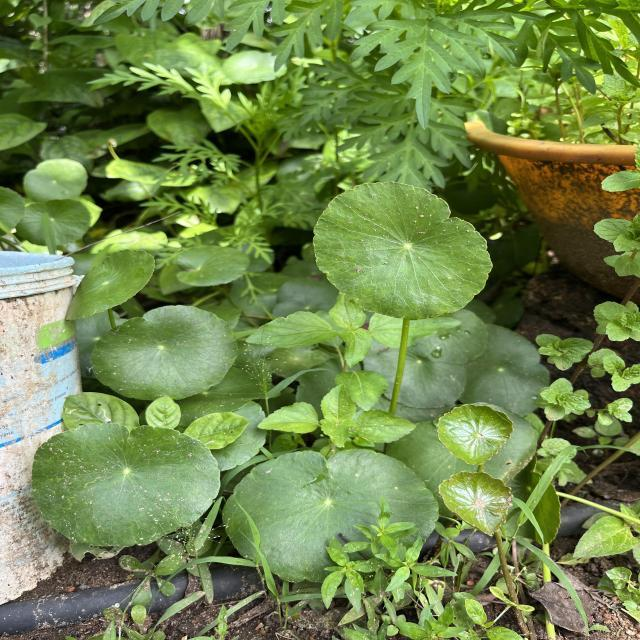Bacopa monnieri: (310, 179, 496, 323), (29, 419, 223, 551), (88, 302, 243, 403), (63, 246, 158, 323), (437, 468, 515, 538), (436, 402, 516, 467)
